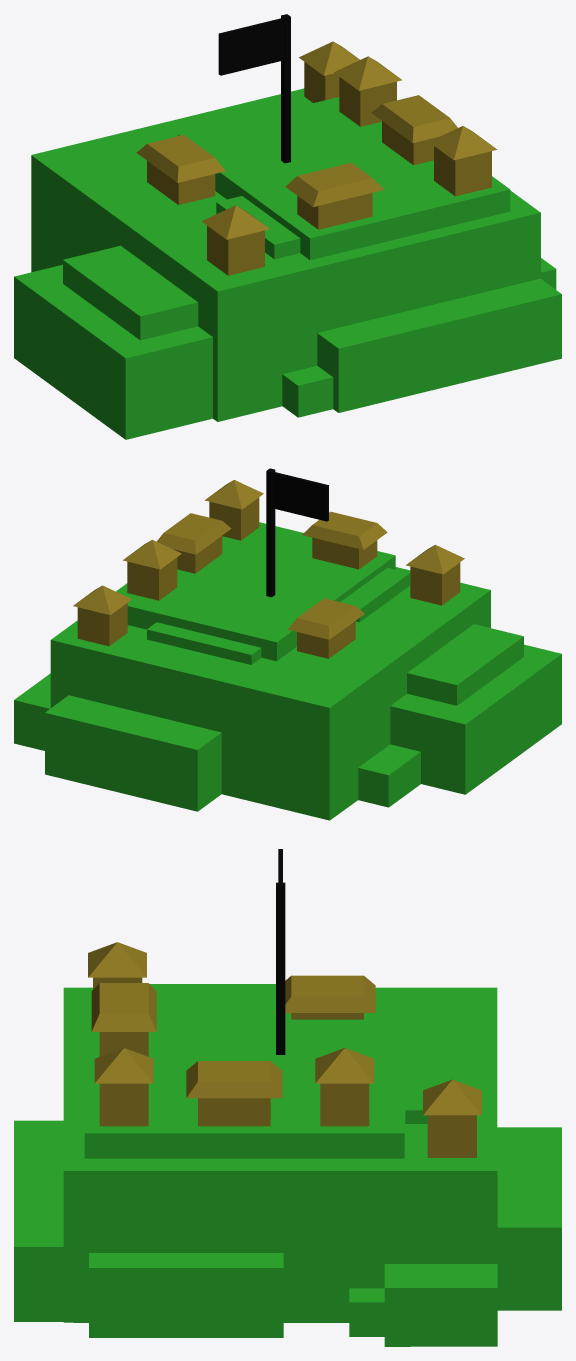
The model's file is PirateIsland.fbx.
3 views of the same model, one above another, from view 1: azimuth 30°, elevation 25°; view 2: azimuth 150°, elevation 25°; view 3: azimuth 270°, elevation 25° (orthographic). The views are drawn at different scales.
Parts seen in each view (by area): view 1: Island, pCube3, Flag, pCube8, pCube5, pCube7, pCube4, pCube6, pCube1; view 2: Island, Flag, pCube3, pCube8, pCube5, pCube1, pCube6, pCube7, pCube4; view 3: Island, pCube5, pCube3, pCube6, pCube4, pCube1, pCube8, pCube7, Flag.
Boxes of the visible parts, x1,y1,x2,y2 form: Island: (14, 88, 561, 439); pCube3: (285, 162, 384, 229); Flag: (218, 14, 290, 163); pCube8: (136, 135, 225, 204); pCube5: (372, 95, 457, 165); pCube7: (201, 205, 269, 275); pCube4: (429, 126, 497, 196); pCube6: (334, 56, 402, 126); pCube1: (299, 41, 359, 102); Island: (14, 522, 561, 820); Flag: (266, 468, 328, 597); pCube3: (302, 511, 387, 569); pCube8: (288, 598, 364, 658); pCube5: (156, 513, 231, 573); pCube1: (73, 585, 131, 646); pCube6: (123, 540, 181, 600); pCube7: (406, 545, 464, 605); pCube4: (204, 480, 263, 540); Island: (14, 984, 561, 1346); pCube5: (186, 1061, 282, 1126); pCube3: (91, 983, 156, 1056); pCube6: (315, 1048, 374, 1126); pCube4: (94, 1048, 153, 1126); pCube1: (423, 1079, 481, 1157); pCube8: (285, 975, 375, 1019); pCube7: (88, 942, 146, 989); Flag: (276, 849, 285, 1054).
Size of the model in its own units: 1.65 by 1.04 by 1.49.
